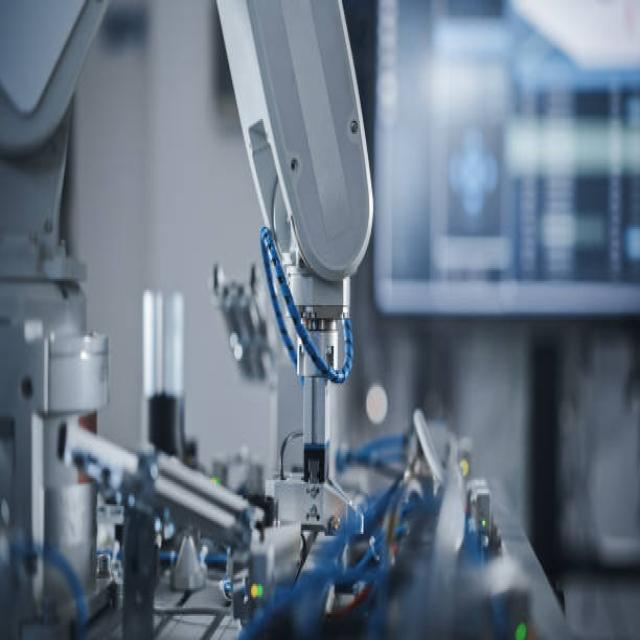Robotic-arm: (0, 0, 381, 575)
